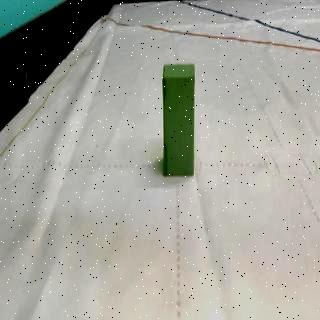greenbox: (162, 63, 198, 176)
